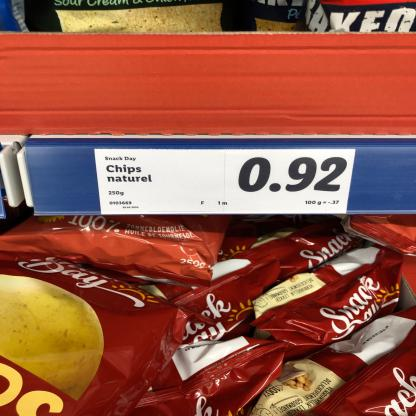prtg: (96, 150, 357, 216)
